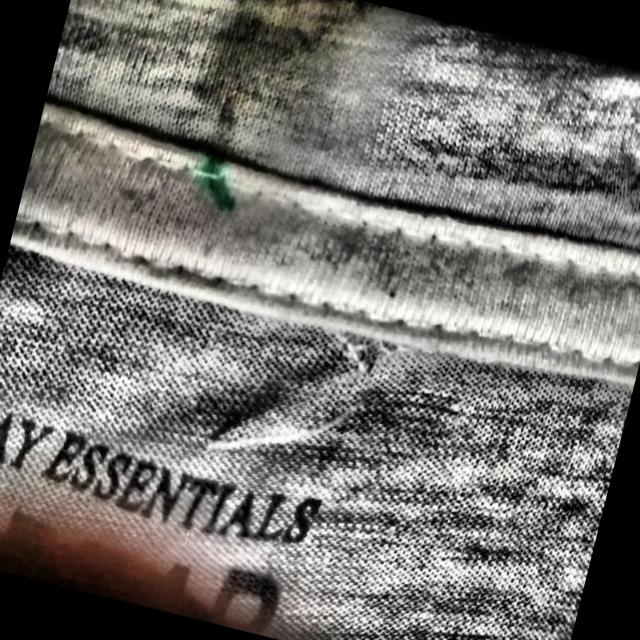gray stitch: (302, 286, 421, 403)
